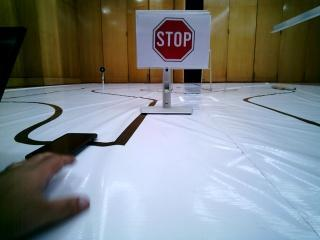stop: (138, 11, 208, 70)
